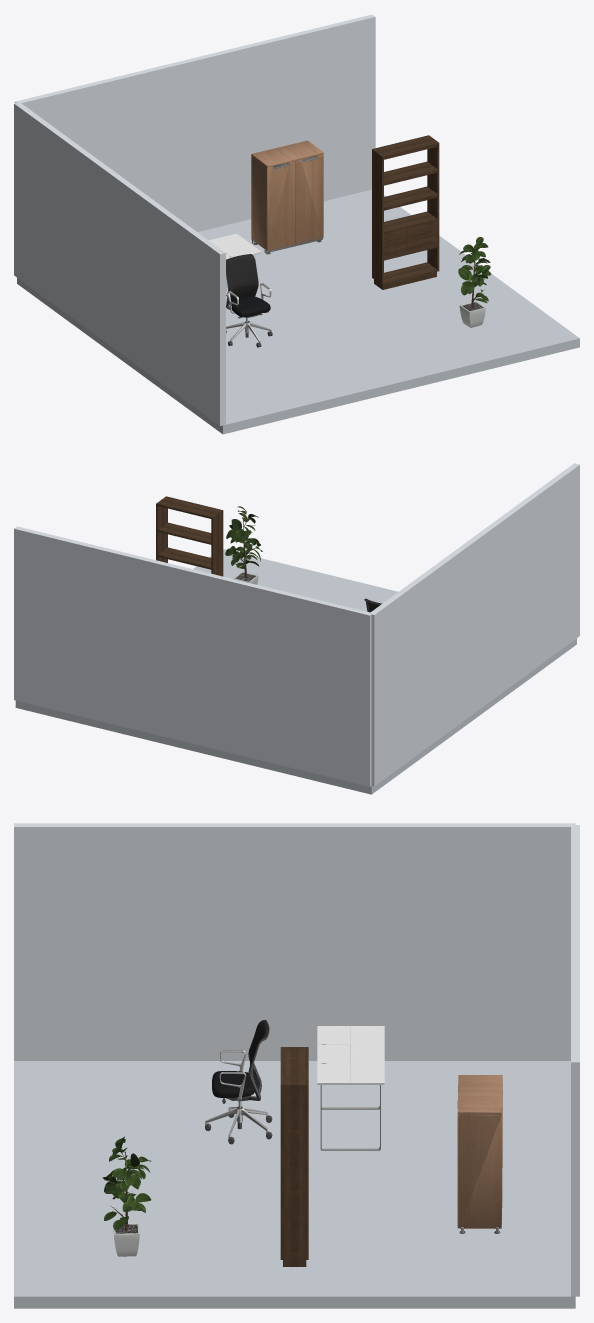
The model's file is stage2.glb.
The picture shows the model from 3 angles, top to bottom: view 1: azimuth 30°, elevation 25°; view 2: azimuth 150°, elevation 25°; view 3: azimuth 270°, elevation 25°; orthographic projection. The views are drawn at different scales.
Parts seen in each view (by area): view 1: Floor, wall_back, wall_left, raw_model.002, raw_model.003, raw_model.001, raw_model.004, raw_model; view 2: wall_back, wall_left, Floor, raw_model.002, raw_model.004; view 3: wall_left, Floor, raw_model.003, raw_model.002, raw_model, wall_back, raw_model.001, raw_model.004.
Part boxes in pixels (x1,y1,x2,y2): Floor: (17,189,579,434); wall_back: (15,14,375,231); wall_left: (14,102,225,425); raw_model.002: (372,135,439,289); raw_model.003: (251,140,323,254); raw_model.001: (226,254,272,347); raw_model.004: (458,237,491,327); raw_model: (209,233,261,295); wall_back: (14,526,372,786); wall_left: (370,463,579,786); Floor: (15,549,576,794); raw_model.002: (156,496,223,576); raw_model.004: (225,506,262,584); wall_left: (14,823,575,1060); Floor: (14,1061,575,1308); raw_model.003: (457,1075,502,1233); raw_model.002: (280,1047,308,1266); raw_model: (317,1026,384,1150); wall_back: (571,825,579,1296); raw_model.001: (205,1020,272,1144); raw_model.004: (102,1136,151,1256).
Bounding box in the file's own units: 5.04 × 2.42 × 5.04.
Materials: 7 (5 with a texture image).
